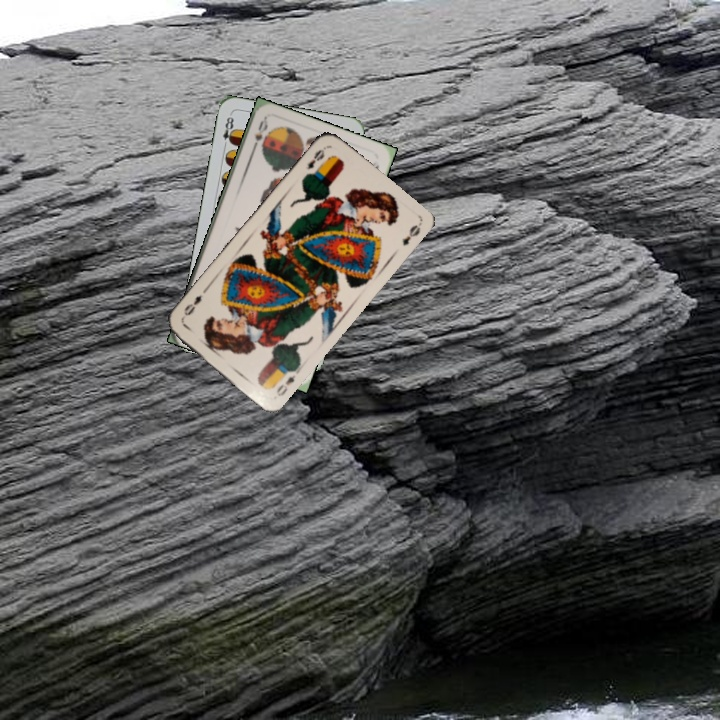E8: (219, 111, 237, 151)
EO: (272, 365, 301, 399), (301, 143, 328, 179)
SO: (247, 116, 270, 155)
